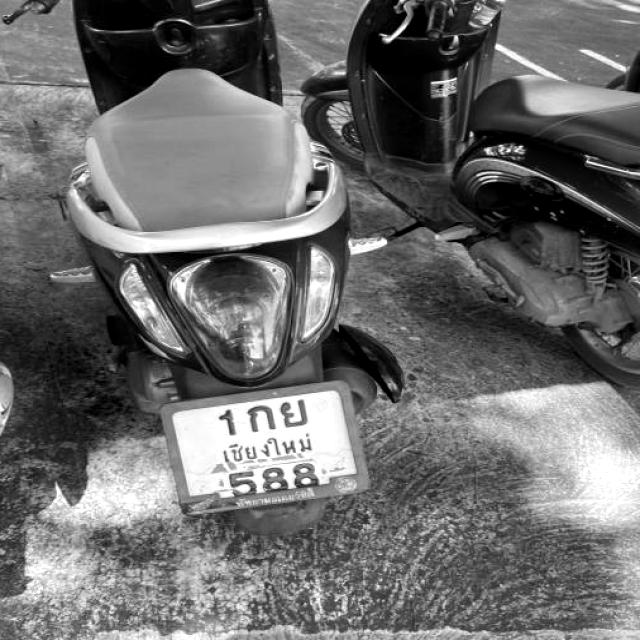letters: (277, 404, 320, 431), (220, 472, 258, 498), (291, 458, 318, 487), (250, 400, 272, 427), (262, 464, 283, 491), (222, 406, 234, 434)
license-plate: (161, 383, 368, 510)
province: (217, 441, 336, 455)
